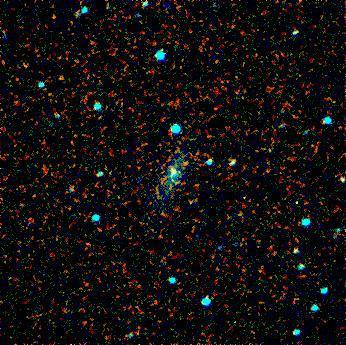star: (155, 157, 185, 187)
